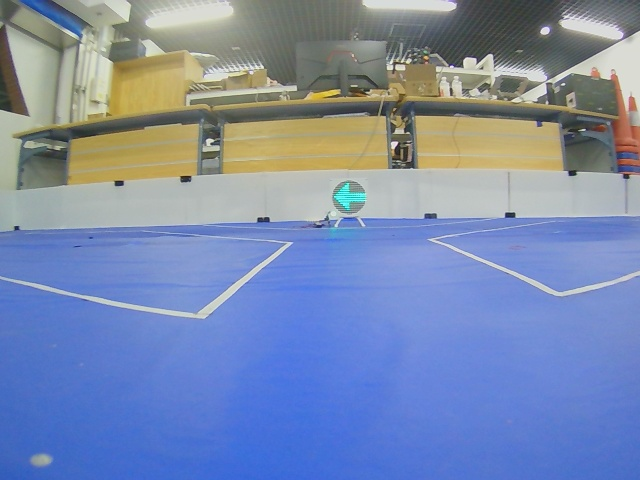left_green: (332, 181, 367, 215)
